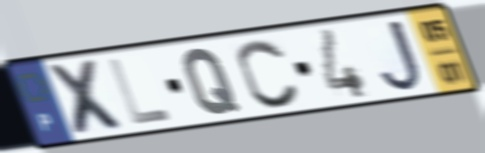4: (319, 27, 369, 101)
C: (235, 37, 303, 110)
J: (378, 17, 425, 96)
L: (105, 56, 176, 129)
Q: (181, 45, 244, 117)
X: (43, 57, 133, 138)
